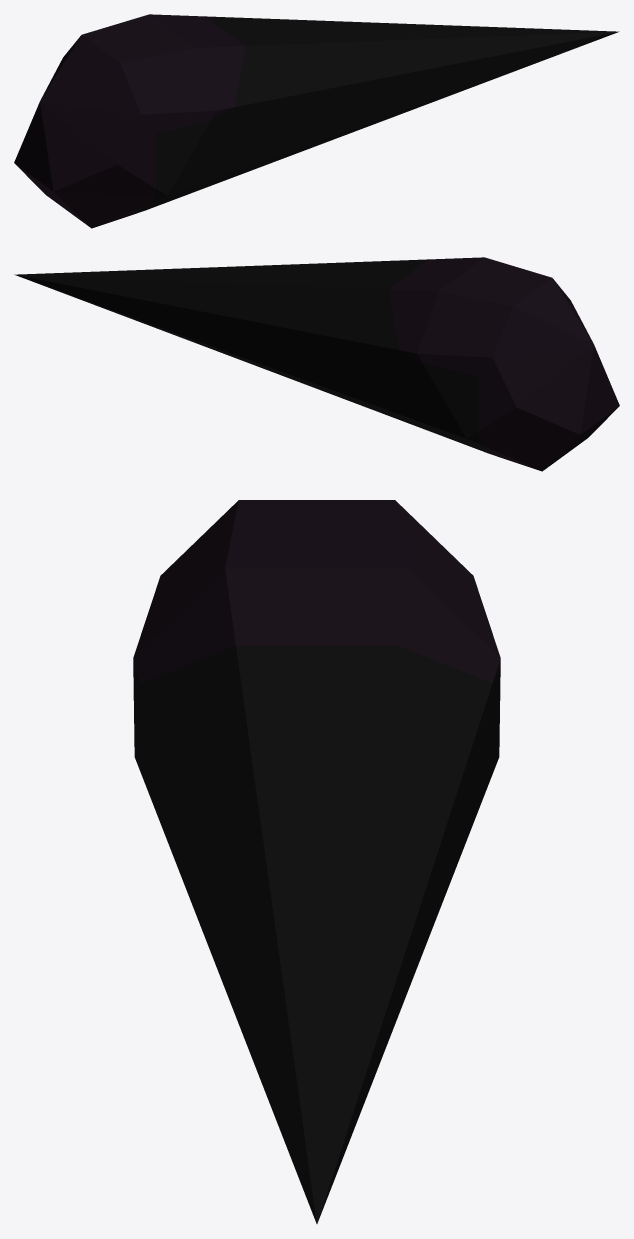
3 renders of one model, top to bottom at view 1: azimuth 30°, elevation 25°; view 2: azimuth 150°, elevation 25°; view 3: azimuth 270°, elevation 25°, orthographic. The views are drawn at different scales.
Parts seen in each view (by area): view 1: mesh_BF0896AF1F64F629; view 2: mesh_BF0896AF1F64F629; view 3: mesh_BF0896AF1F64F629.
Boxes of the visible parts, <box> form: mesh_BF0896AF1F64F629: <box>14,14,619,228</box>; mesh_BF0896AF1F64F629: <box>14,257,619,471</box>; mesh_BF0896AF1F64F629: <box>133,500,500,1223</box>.
Size of the model in its own units: 1.04 by 0.2935 by 0.2826.
